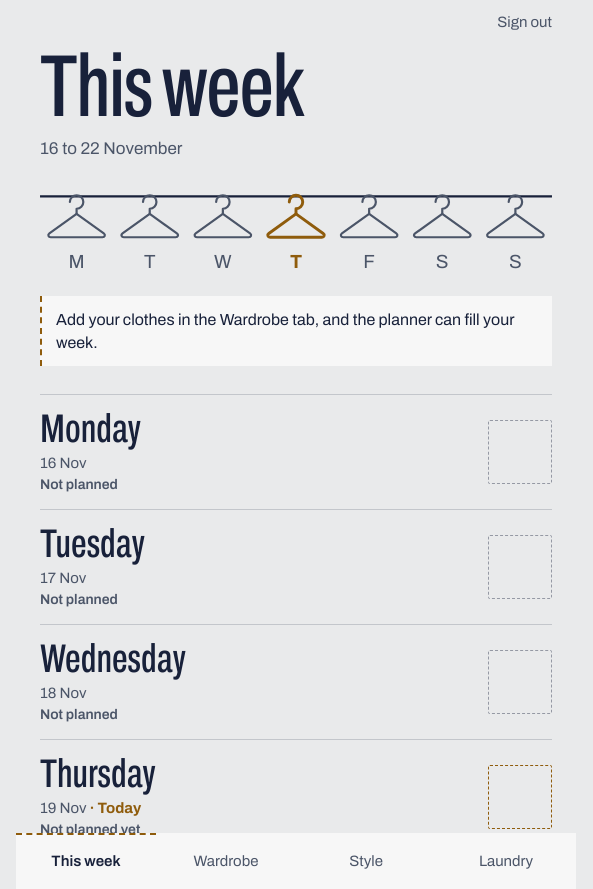
Scenario: when signed in › moves between the tabs
Click the link "Laundry": (506, 861) [479,853,533,869]
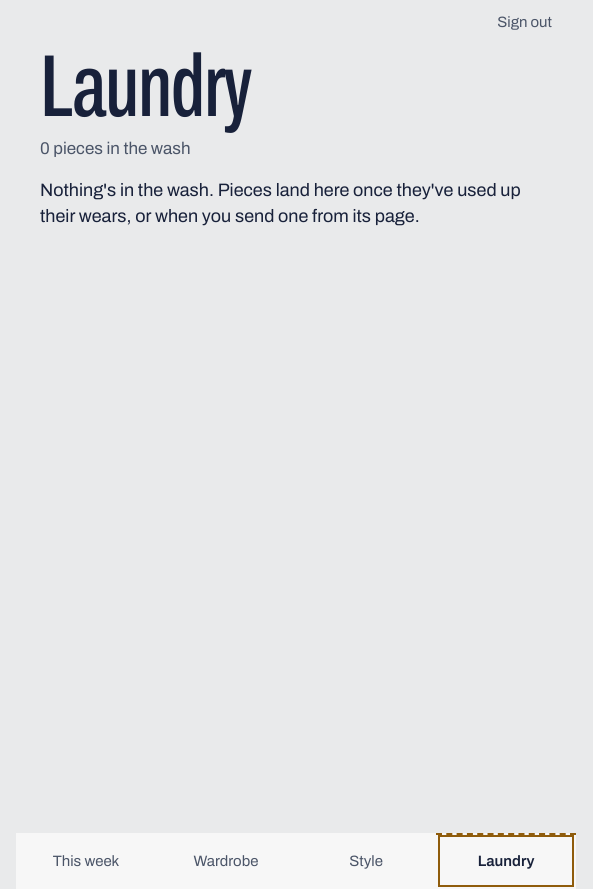
Expected: the heading "Laundry" is shown, [40,39,251,134]
